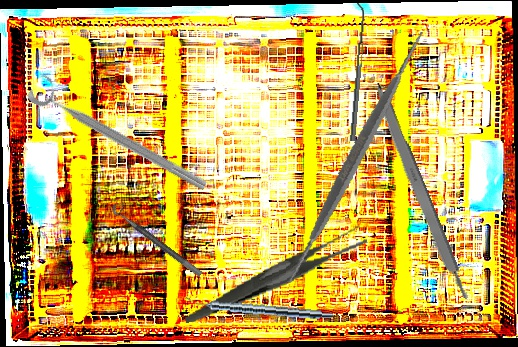Dressing Forceps: (175, 225, 376, 323)
Fixation Ring: (25, 70, 216, 196), (109, 197, 209, 278)
Handpiece: (183, 295, 335, 322)
Scalpel Handle: (368, 80, 471, 304)
Spatula Surgical: (225, 27, 487, 288), (345, 2, 367, 142)
